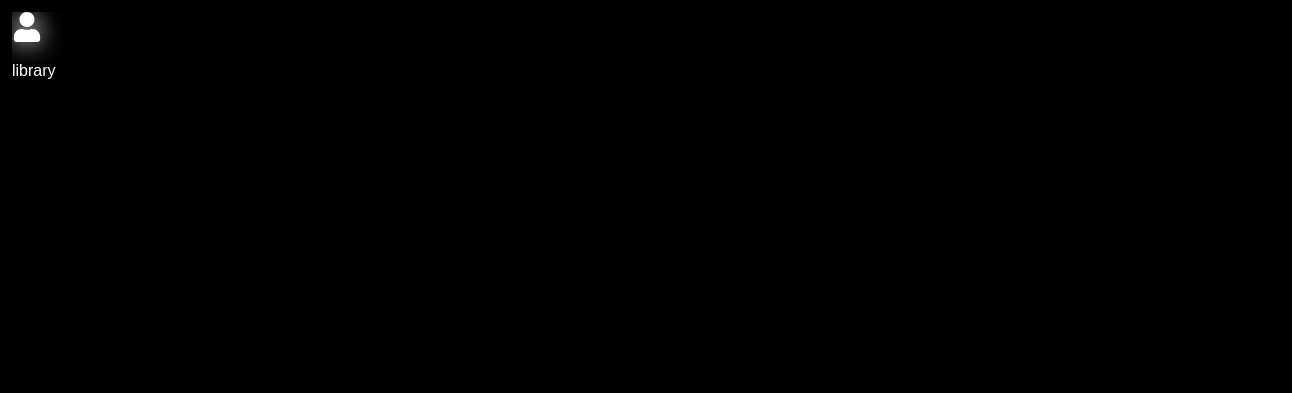
Test case: ProfileMenu › signs out from a protected page to the home page, not the login page
Click the button named "Меню профиля neo".
click(27, 28)  # box top-left (12, 12), bottom-right (42, 45)
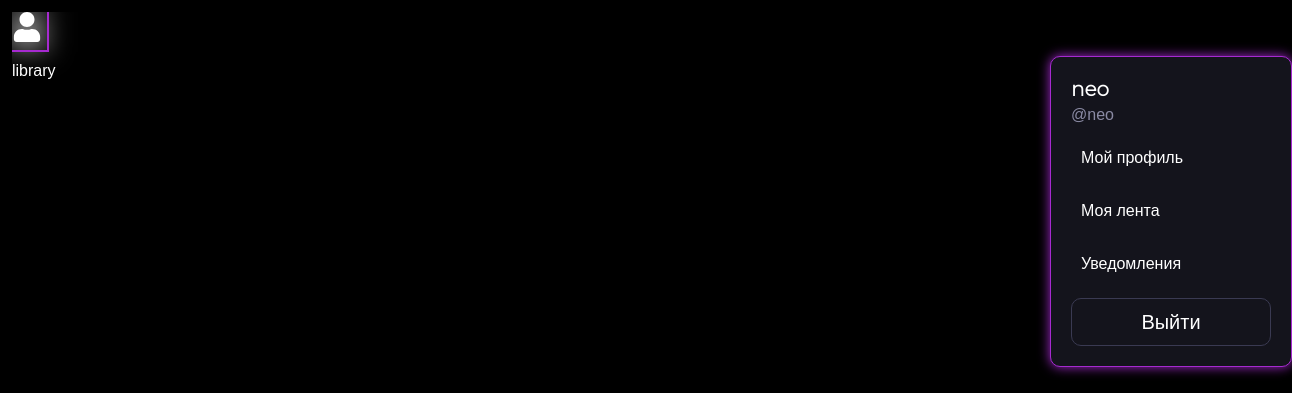
Click the menu item "Выйти".
click(1171, 322)  # box top-left (1071, 298), bottom-right (1271, 346)
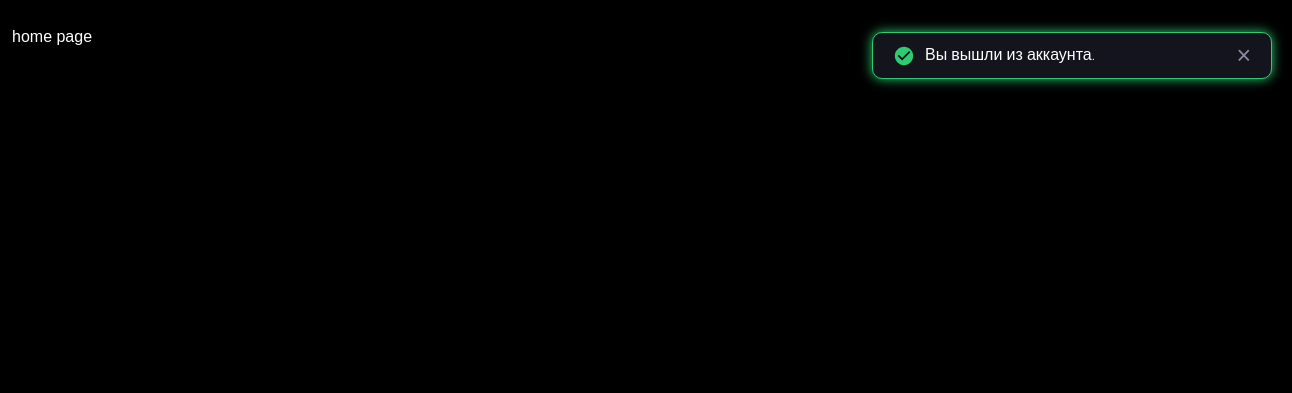
Now the text "home page" is shown, box top-left (12, 28), bottom-right (92, 45)
